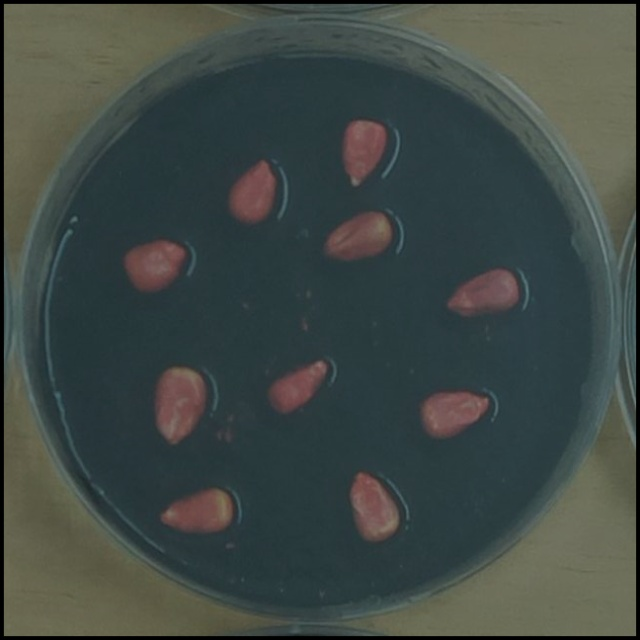Zea mays: (146, 359, 213, 455), (315, 204, 399, 273), (258, 352, 338, 424), (221, 153, 291, 235), (438, 261, 526, 326), (343, 464, 407, 552), (410, 384, 497, 448), (334, 114, 401, 197), (151, 480, 240, 542), (115, 232, 195, 300)
